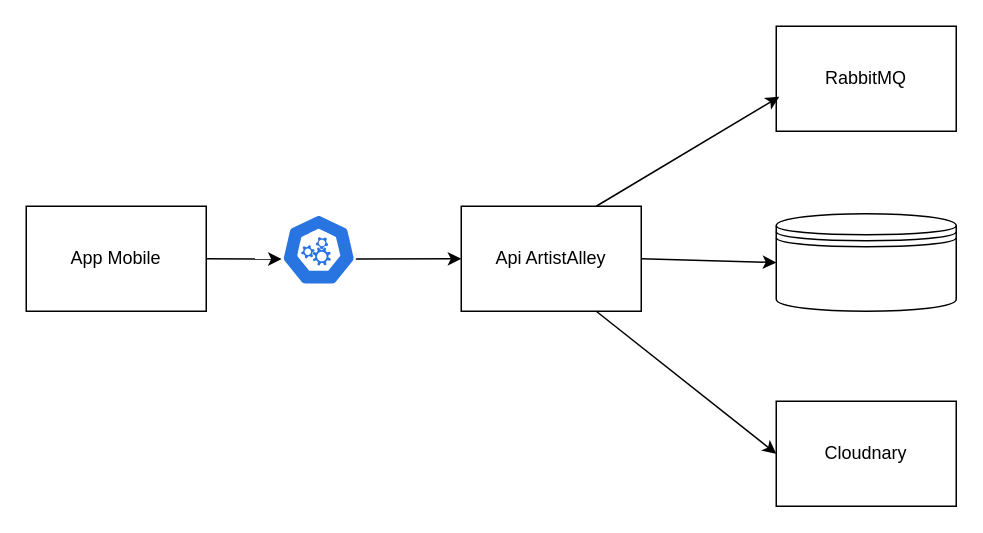
This 983x533 diagram has some shape labels left out. Each missing label, with the centre of its shape:
API Gateway: point (318, 249)
db PostgreSQL: point (865, 261)
